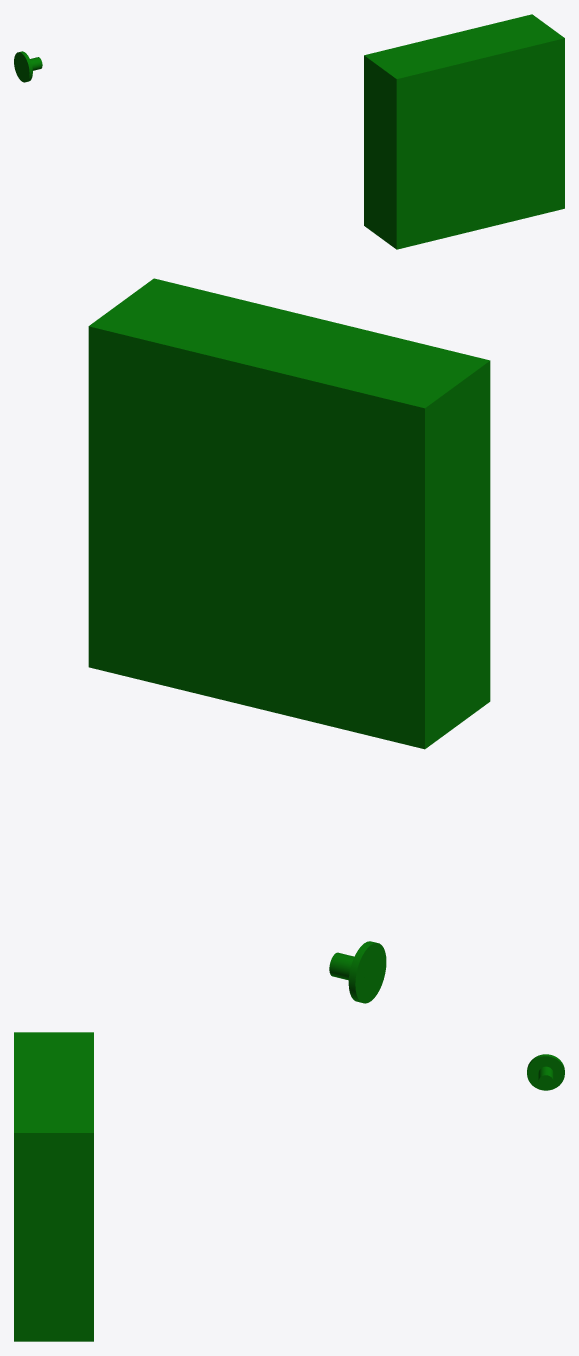
File: Image-1711348148154-2280958104992_53-HB01.fbx
The picture shows the model from 3 angles, top to bottom: view 1: azimuth 30°, elevation 25°; view 2: azimuth 150°, elevation 25°; view 3: azimuth 270°, elevation 25°; orthographic projection. The views are drawn at different scales.
Parts seen in each view (by area): view 1: BOX 1 of EQUIPMENT /53-HB01, /N1/53-XX50, /N4/53-HB01; view 2: BOX 1 of EQUIPMENT /53-HB01, /N1/53-XX50, /N4/53-HB01, /N3/53-HB01; view 3: BOX 1 of EQUIPMENT /53-HB01, /N1/53-XX50.
Part boxes in pixels (x1,y1,x2,y2): BOX 1 of EQUIPMENT /53-HB01: (364,14,564,249); /N1/53-XX50: (14,51,42,82); /N4/53-HB01: (364,67,380,96); BOX 1 of EQUIPMENT /53-HB01: (88,278,490,749); /N1/53-XX50: (329,941,386,1003); /N4/53-HB01: (426,406,457,466); /N3/53-HB01: (426,643,457,704); BOX 1 of EQUIPMENT /53-HB01: (14,1032,93,1341); /N1/53-XX50: (527,1054,564,1090).
Size of the model in its own units: 1.84 by 2.2 by 0.92.
